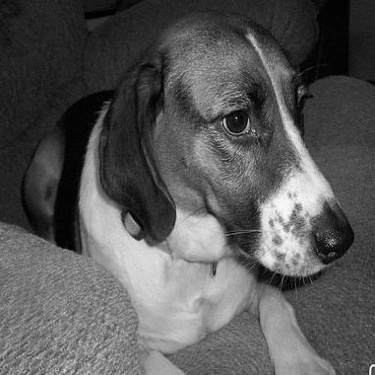dog: (16, 7, 355, 371)
